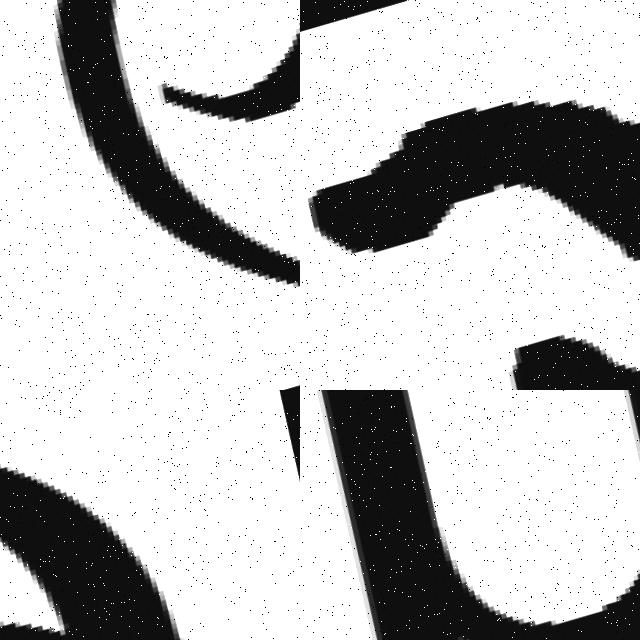6: (0, 390, 278, 640)
9: (0, 0, 300, 369)
C: (314, 105, 640, 264)
U: (300, 390, 640, 640)
